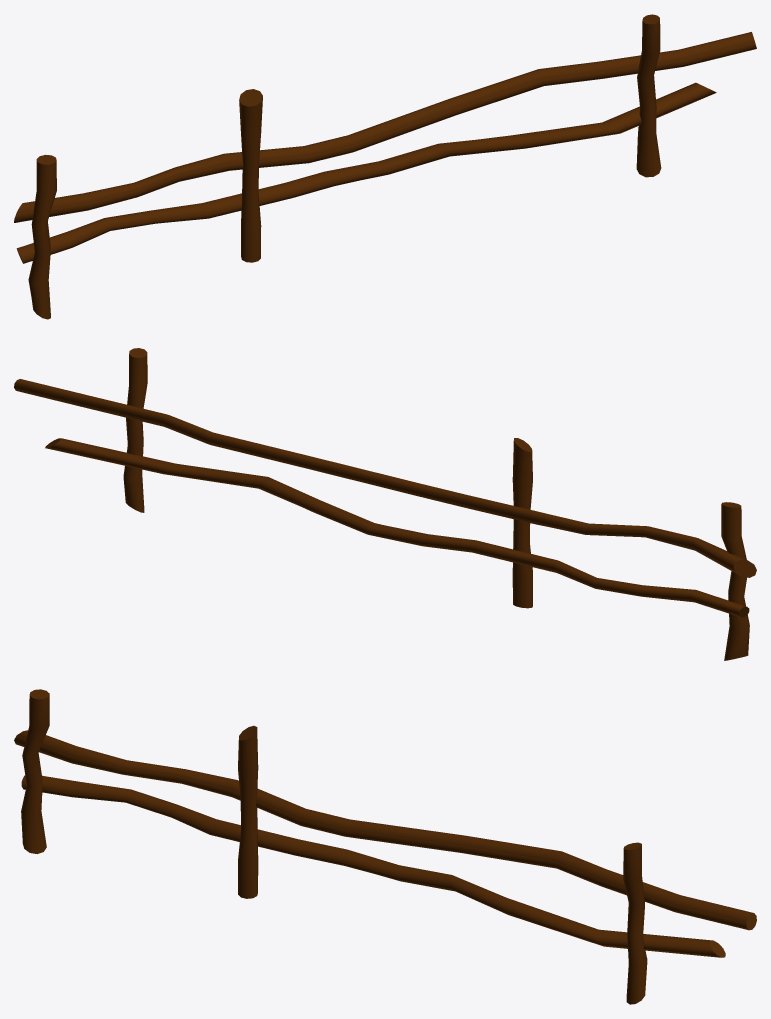
File: fence3.glb
3 renders of one model, top to bottom at view 1: azimuth 30°, elevation 25°; view 2: azimuth 150°, elevation 25°; view 3: azimuth 330°, elevation 25°, orthographic.
Visible parts, largest first — view 1: Cylinder120_21 - Default_0; view 2: Cylinder120_21 - Default_0; view 3: Cylinder120_21 - Default_0.
Boxes of the visible parts, x1,y1,x2,y2 form: Cylinder120_21 - Default_0: [14, 14, 756, 319]; Cylinder120_21 - Default_0: [14, 348, 756, 660]; Cylinder120_21 - Default_0: [14, 689, 756, 1004].
Size of the model in its own units: 18.82 by 4.18 by 1.33.
